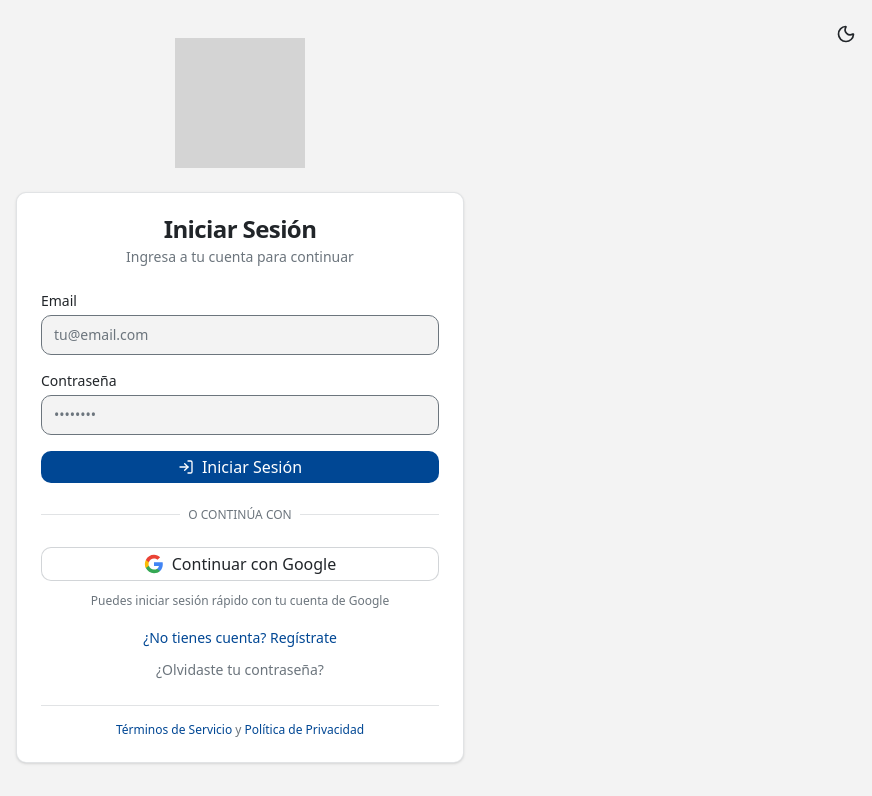
Test case: AuthPage - Email/Password Login › debería cambiar a modo registro al hacer clic en el link
Step 1. Click the button "¿No tienes cuenta? Regístrate" → (240, 638), box [143,628,337,648]
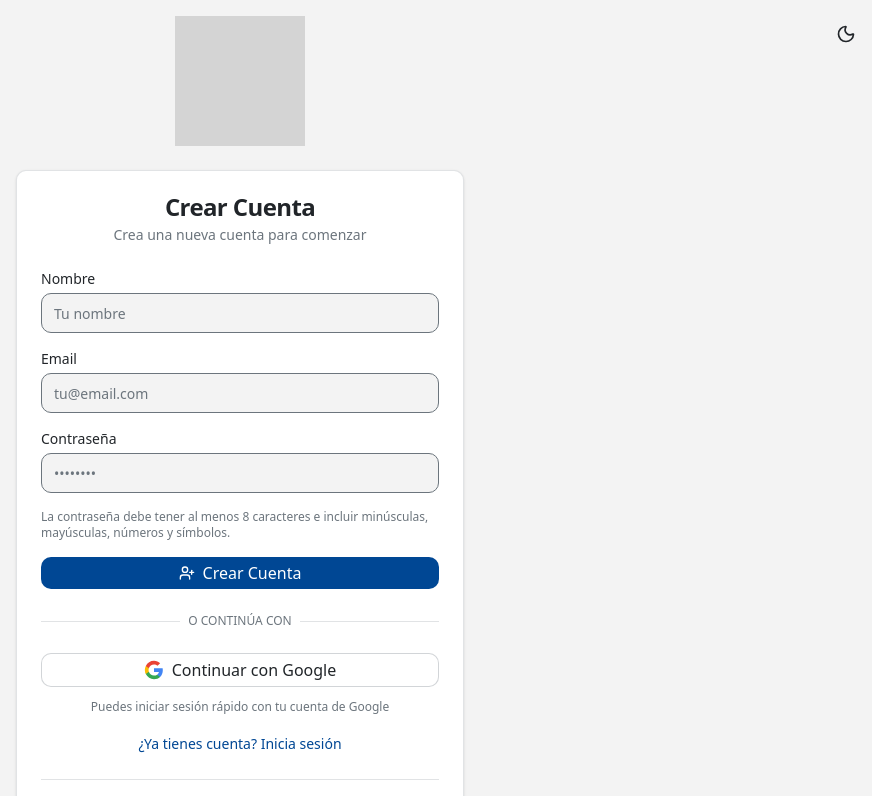
Check: the button "Crear Cuenta" is shown, box [41,557,439,589]
